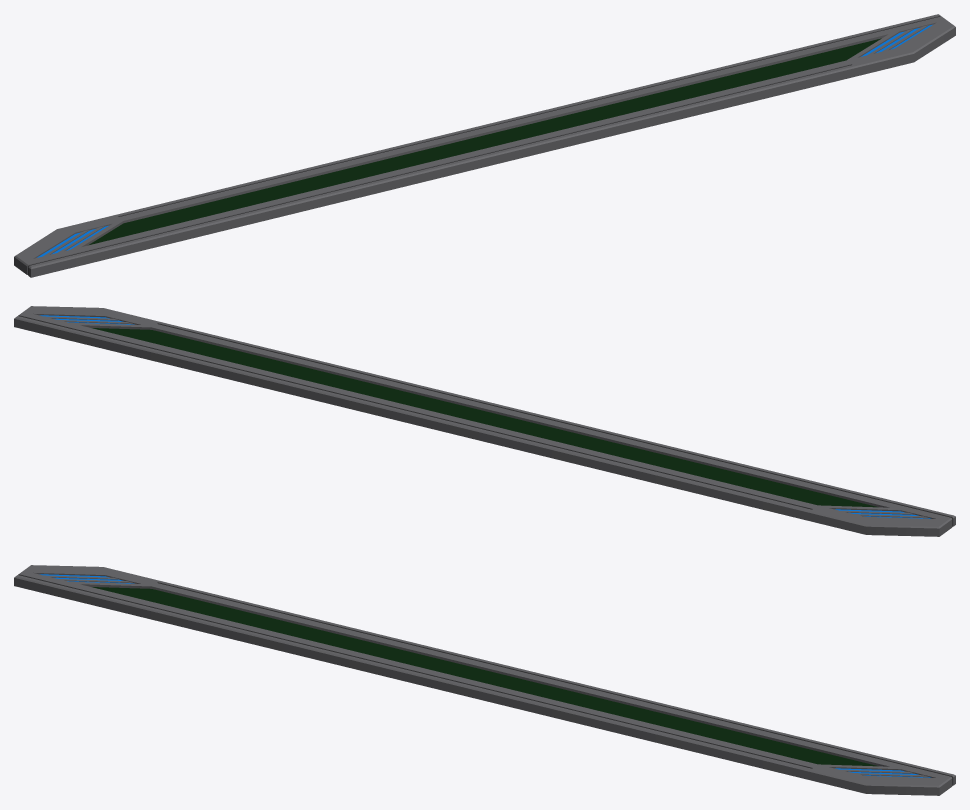
The model's file is W_O_Flowerbed_002_L0.fbx.
The picture shows the model from 3 angles, top to bottom: view 1: azimuth 30°, elevation 25°; view 2: azimuth 150°, elevation 25°; view 3: azimuth 330°, elevation 25°; orthographic projection. The views are drawn at different scales.
Visible parts, largest first — view 1: W_O_Flowerbed_002_L0; view 2: W_O_Flowerbed_002_L0; view 3: W_O_Flowerbed_002_L0.
Part boxes in pixels (x1=…): W_O_Flowerbed_002_L0: x1=14, y1=14, x2=955, y2=277; W_O_Flowerbed_002_L0: x1=14, y1=306, x2=955, y2=536; W_O_Flowerbed_002_L0: x1=14, y1=565, x2=955, y2=795.
Bounding box in the file's own units: 8 × 0.08 × 0.5.
